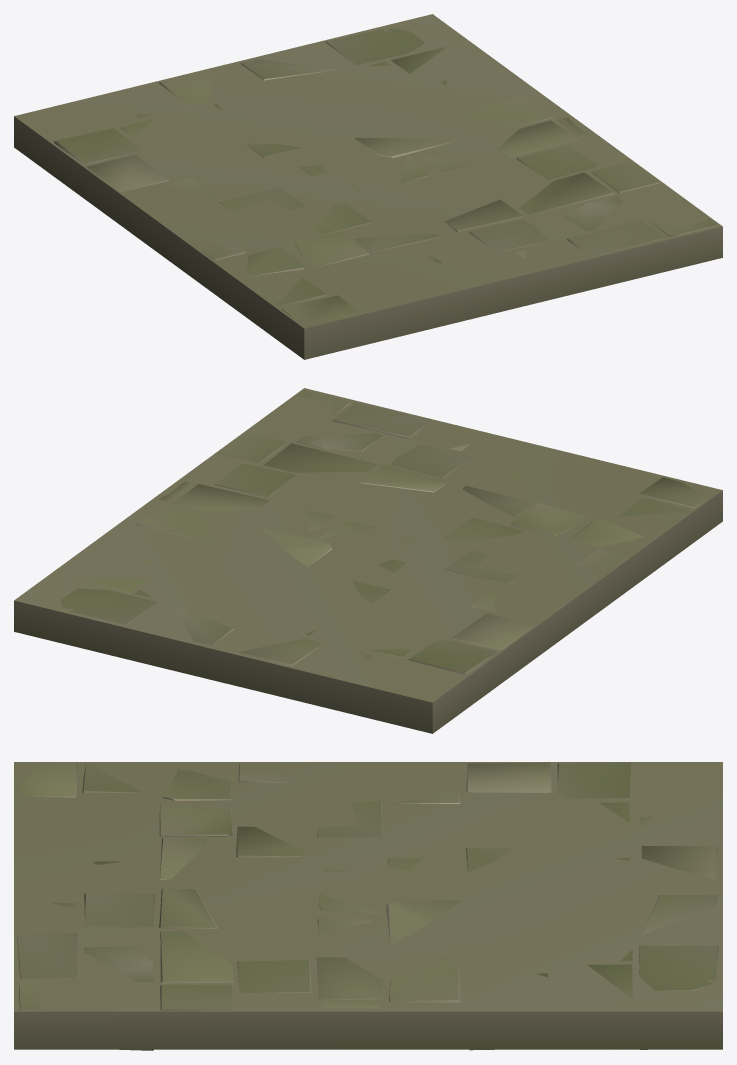
Rendered from street_paving.glb.
The picture shows the model from 3 angles, top to bottom: view 1: azimuth 30°, elevation 25°; view 2: azimuth 150°, elevation 25°; view 3: azimuth 270°, elevation 25°; orthographic projection. The views are drawn at different scales.
Parts seen in each view (by area): view 1: street_paving_far, street_paving; view 2: street_paving_far, street_paving; view 3: street_paving_far, street_paving.
Part boxes in pixels (x1=…): street_paving_far: x1=14, y1=14, x2=722, y2=359; street_paving: x1=54, y1=28, x2=717, y2=321; street_paving_far: x1=14, y1=388, x2=722, y2=733; street_paving: x1=61, y1=390, x2=710, y2=674; street_paving_far: x1=14, y1=762, x2=722, y2=1049; street_paving: x1=17, y1=762, x2=718, y2=1050.
Bounding box in the file's own units: 13.32 × 1.09 × 16.
